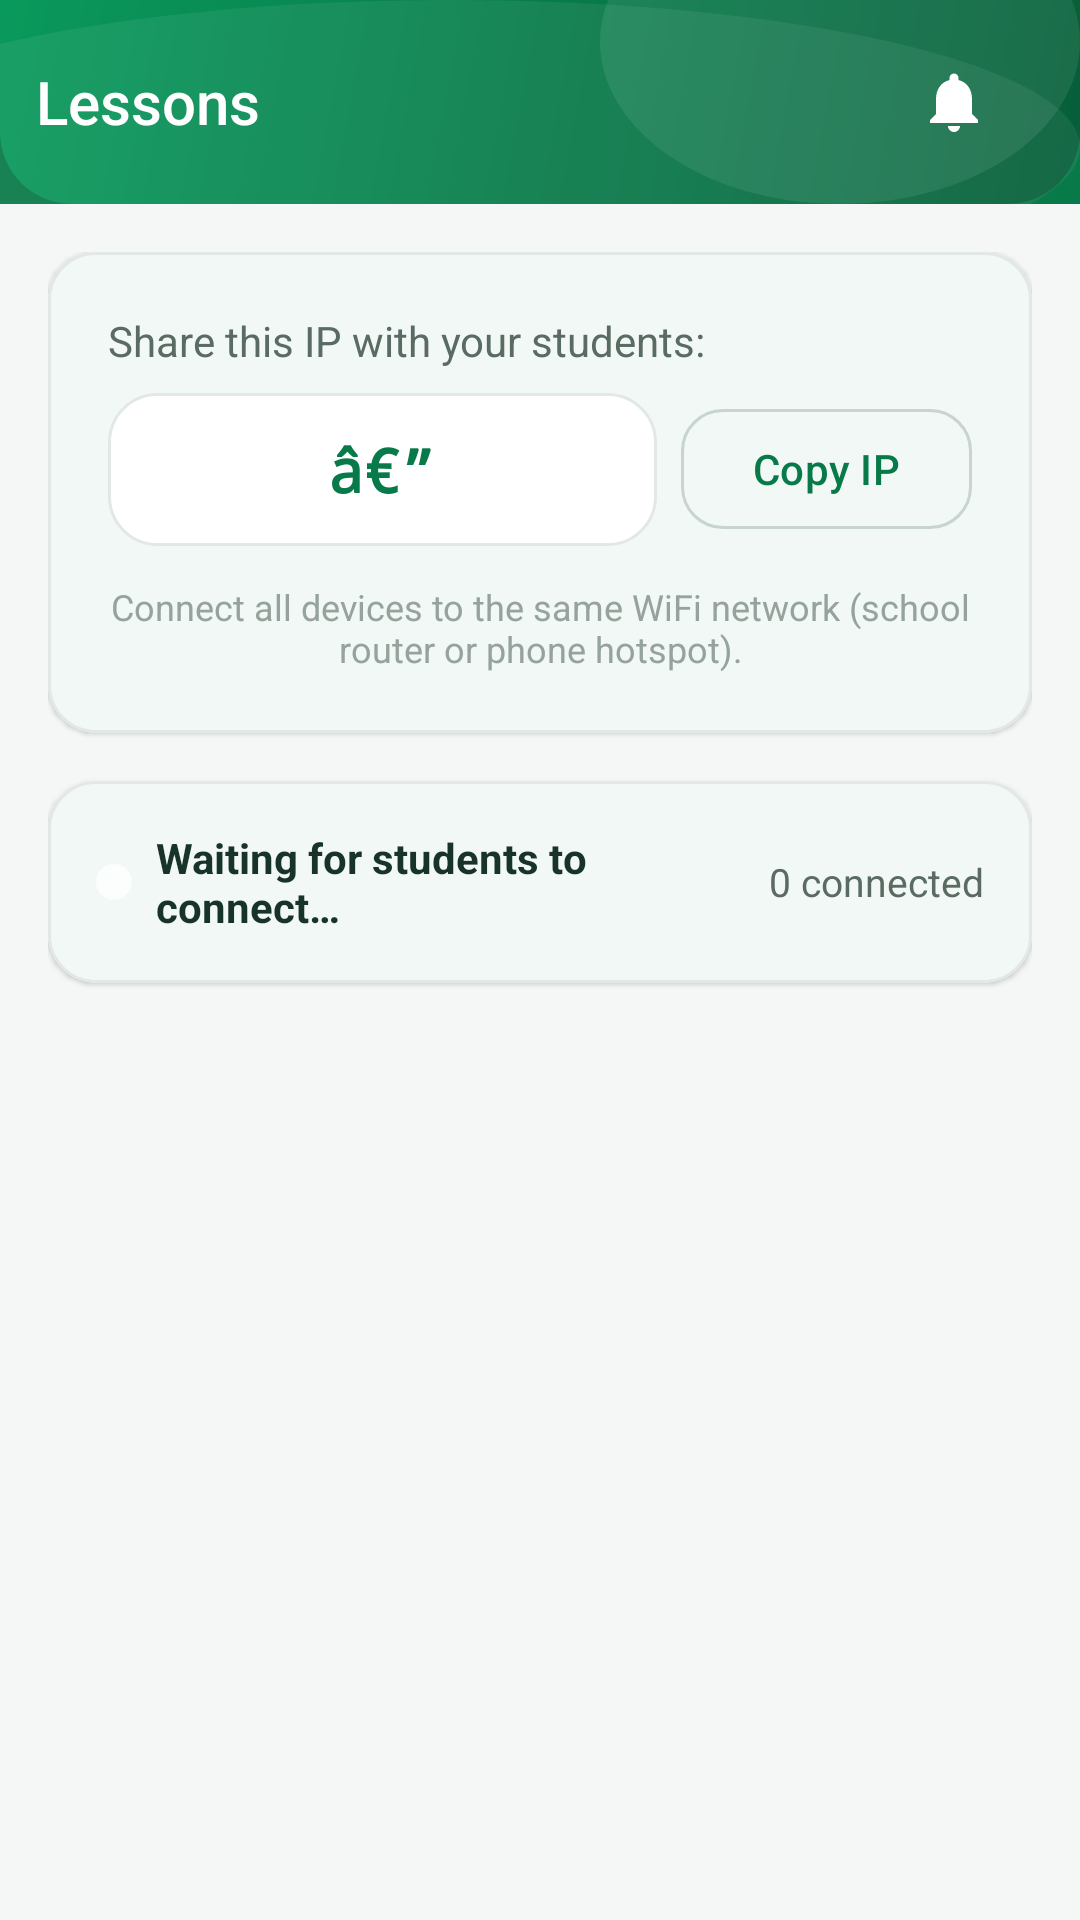

Icons on this 1080w x 1920h Android screen, each with the point to tap as (x=x, y=y):
Notifications: (x=954, y=102)
